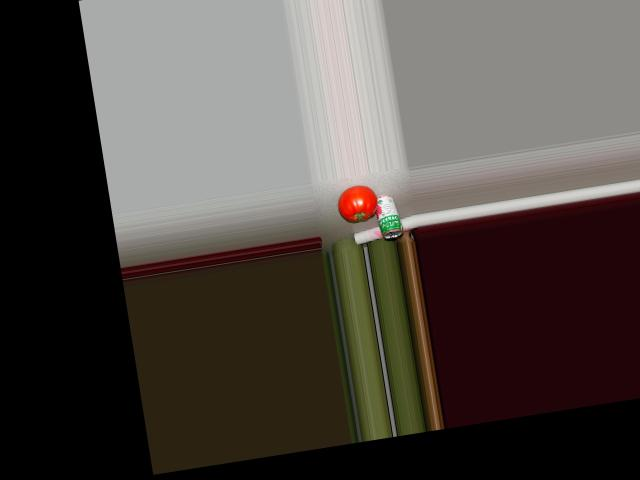tomato: (335, 183, 379, 222)
